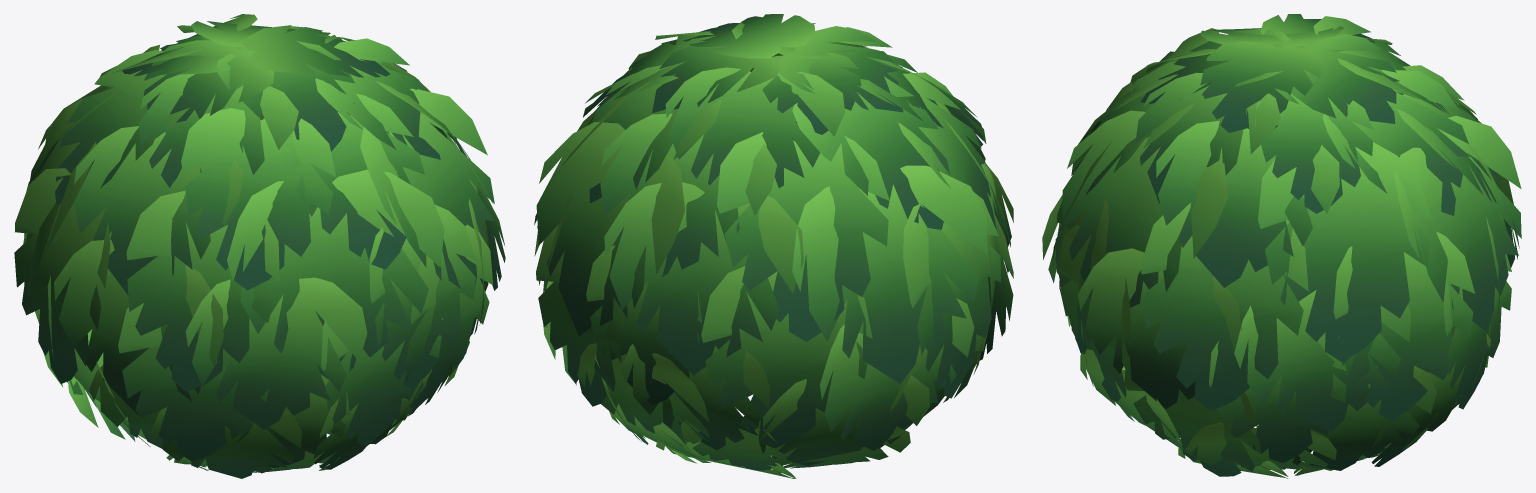
The model's file is bush.fbx.
3 views of the same model, side by side, from view 1: azimuth 30°, elevation 25°; view 2: azimuth 150°, elevation 25°; view 3: azimuth 270°, elevation 25° (orthographic).
Visible parts, largest first — view 1: pPlane69; view 2: pPlane69; view 3: pPlane69.
Boxes of the visible parts, x1=… form: pPlane69: x1=14, y1=14, x2=505, y2=478; pPlane69: x1=534, y1=14, x2=1013, y2=478; pPlane69: x1=1042, y1=14, x2=1521, y2=478.
Size of the model in its own units: 91.7 by 83.11 by 90.22.
